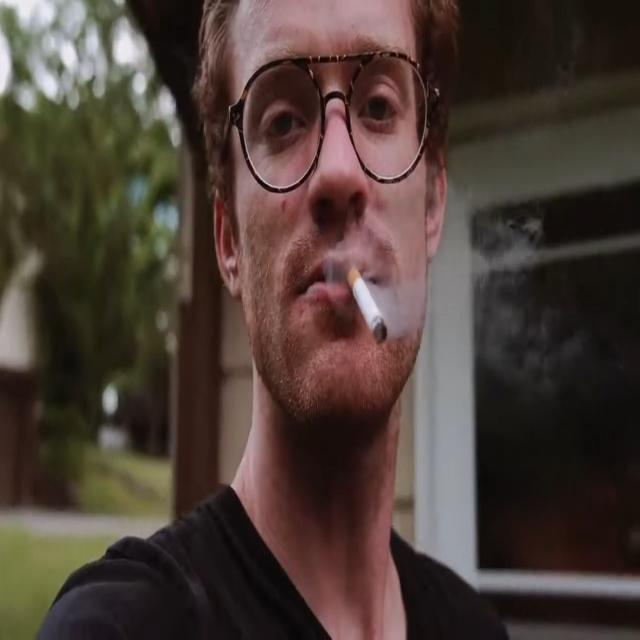Курение: (345, 261, 388, 348)
